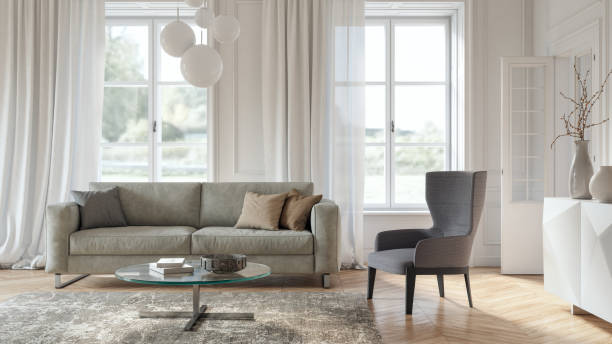chair: (365, 170, 488, 315)
flower vase: (554, 56, 605, 198)
sofa: (43, 179, 341, 290)
table: (113, 257, 273, 333)
